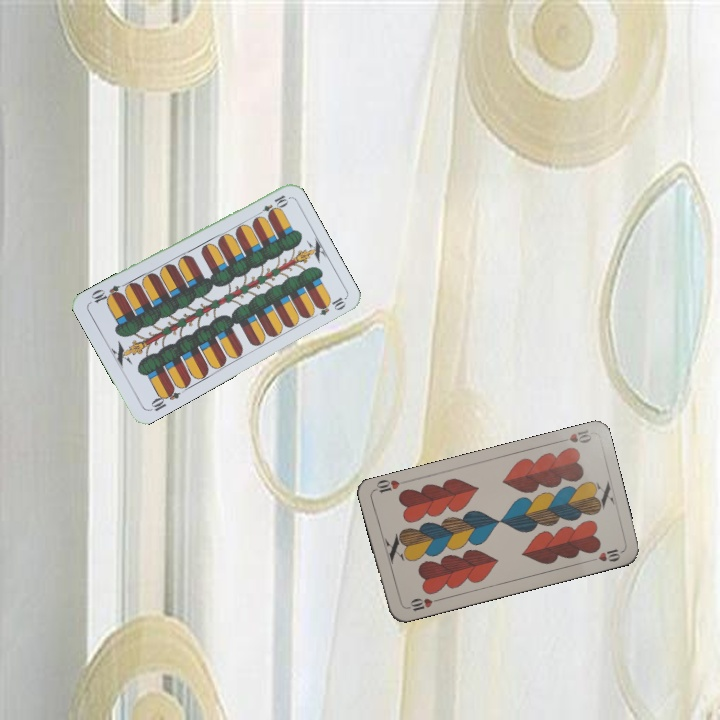E10: (145, 383, 182, 414), (252, 191, 290, 220)
H10: (402, 594, 442, 614), (554, 426, 594, 446)
